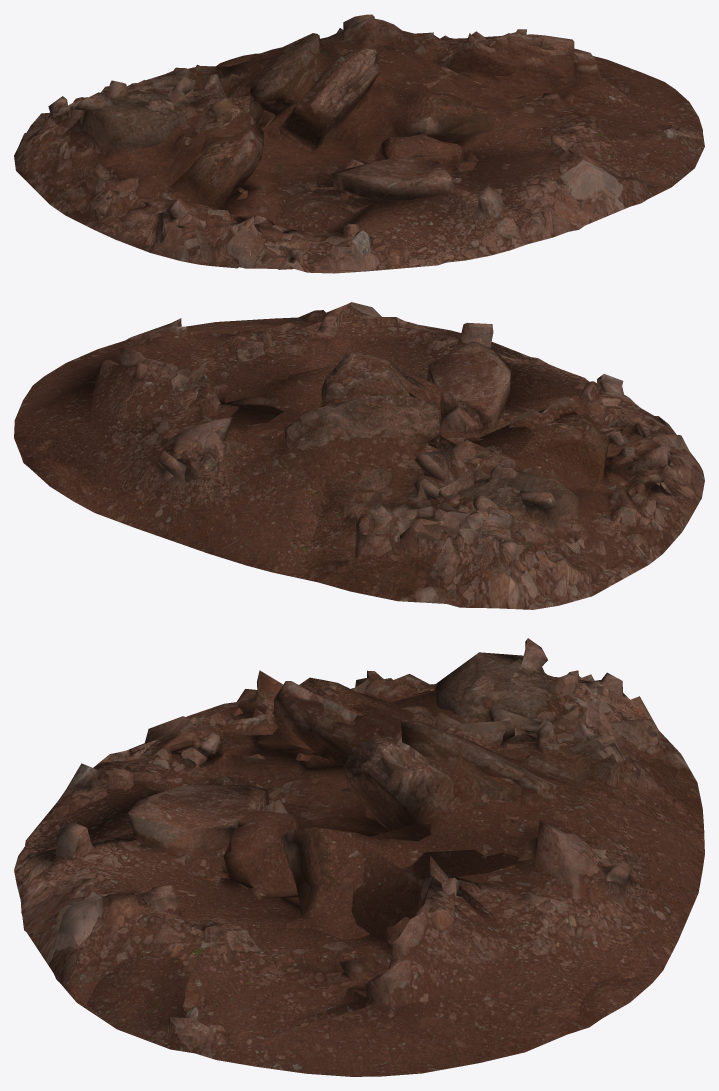
The model's file is limestone_rocks_ub3sddsda.glb.
The picture shows the model from 3 angles, top to bottom: view 1: azimuth 30°, elevation 25°; view 2: azimuth 150°, elevation 25°; view 3: azimuth 270°, elevation 25°; orthographic projection. The views are drawn at different scales.
Parts seen in each view (by area): view 1: ub3sddsda_LOD0_TIER2_000, ub3sddsda_LOD0_TIER2_000_MatID_1_0_far; view 2: ub3sddsda_LOD0_TIER2_000, ub3sddsda_LOD0_TIER2_000_MatID_1_0_far; view 3: ub3sddsda_LOD0_TIER2_000, ub3sddsda_LOD0_TIER2_000_MatID_1_0_far.
Boxes of the visible parts, x1,y1,x2,y2 form: ub3sddsda_LOD0_TIER2_000: (14,14,704,273); ub3sddsda_LOD0_TIER2_000_MatID_1_0_far: (41,30,702,271); ub3sddsda_LOD0_TIER2_000: (14,302,704,609); ub3sddsda_LOD0_TIER2_000_MatID_1_0_far: (15,314,701,605); ub3sddsda_LOD0_TIER2_000: (14,638,704,1076); ub3sddsda_LOD0_TIER2_000_MatID_1_0_far: (20,677,704,1073).
Size of the model in its own units: 2.67 by 0.4523 by 2.02.
1 material, 1 textured.
